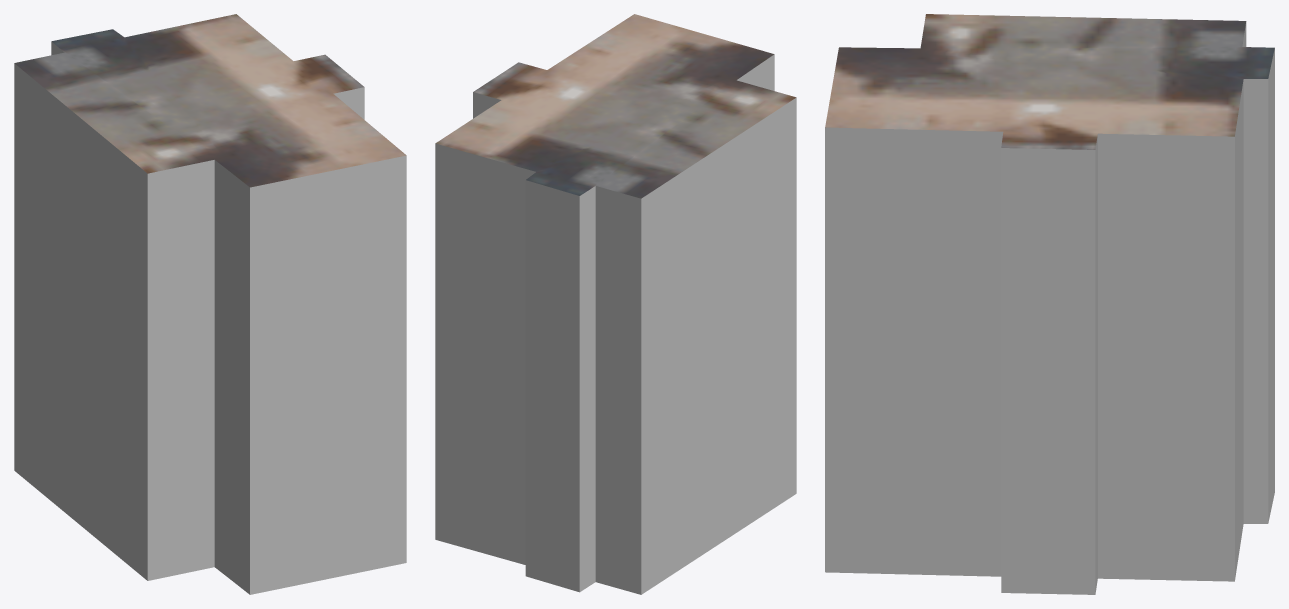
File: DEBW_0010007TvjA.gltf
3 renders of one model, left to right at view 1: azimuth 30°, elevation 25°; view 2: azimuth 150°, elevation 25°; view 3: azimuth 270°, elevation 25°, orthographic. The views are drawn at different scales.
Parts seen in each view (by area): view 1: Z_UP; view 2: Z_UP; view 3: Z_UP.
Boxes of the visible parts, bbox=[...] form: Z_UP: bbox=[14, 14, 406, 594]; Z_UP: bbox=[435, 14, 796, 594]; Z_UP: bbox=[825, 14, 1274, 594].
Bounding box in the file's own units: 10.69 × 16.31 × 14.94.
Materials: 2 (1 with a texture image).
